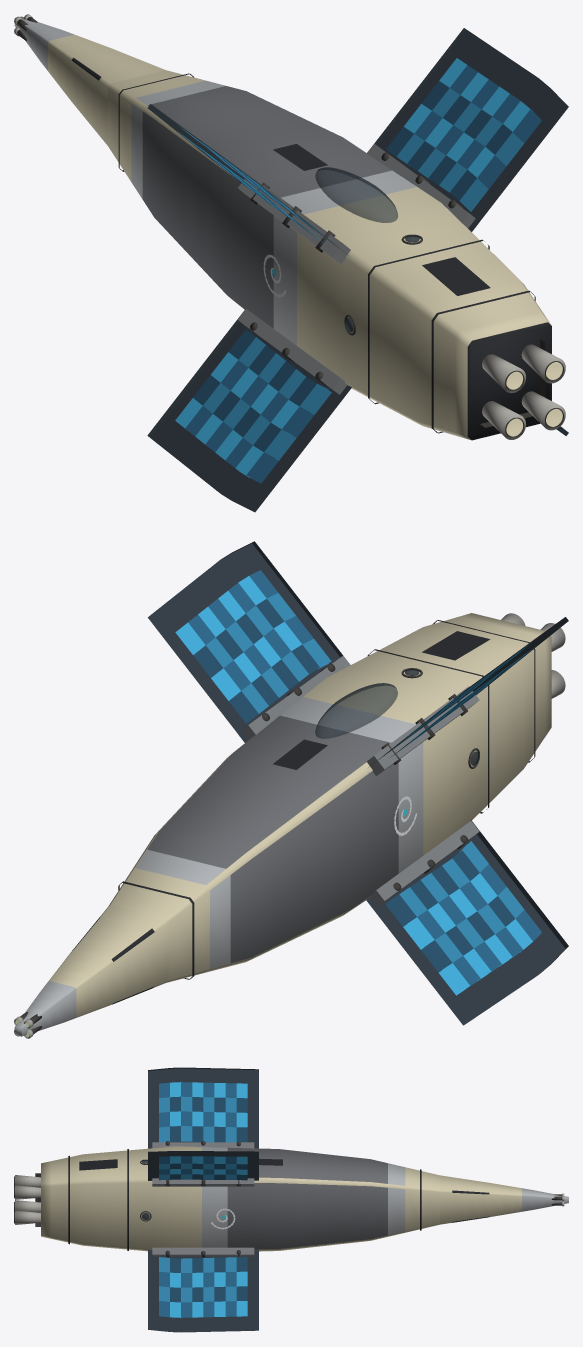
The model's file is Ship_Crosspanel_1.glb.
3 renders of one model, top to bottom at view 1: azimuth 30°, elevation 25°; view 2: azimuth 150°, elevation 25°; view 3: azimuth 270°, elevation 25°, orthographic. The views are drawn at different scales.
Visible parts, largest first — view 1: Fuselage_SquareBody, SolarPanelWing_LowerLeftRidge_RectangularPhotovoltaicGrid, SolarPanelWing_TopRightRidge_RectangularPhotovoltaicGrid, Nose_SquareTaperedForwardSection, Canopy_DorsalLowSquareBubble, SolarPanelWing_TopLeftRidge_RootHingeClamp, SolarPanelWing_LowerLeftRidge_RootHingeClamp, SolarPanelWing_TopLeftRidge_RectangularPhotovoltaicGrid, HullAccessPanel_TopAft, SolarPanelWing_TopRightRidge_RootHingeClamp, EngineEmitter, EngineBell_UpperRight_TaperedSquareClusterNozzle (+4 smaller); view 2: Fuselage_SquareBody, SolarPanelWing_LowerLeftRidge_RectangularPhotovoltaicGrid, SolarPanelWing_TopRightRidge_RectangularPhotovoltaicGrid, Nose_SquareTaperedForwardSection, Canopy_DorsalLowSquareBubble, SolarPanelWing_TopLeftRidge_RootHingeClamp, SolarPanelWing_LowerLeftRidge_RootHingeClamp, SolarPanelWing_TopLeftRidge_RectangularPhotovoltaicGrid, SolarPanelWing_TopRightRidge_RootHingeClamp, HullAccessPanel_TopAft, HullAccessPanel_TopForward; view 3: Fuselage_SquareBody, SolarPanelWing_LowerRightRidge_RectangularPhotovoltaicGrid, SolarPanelWing_TopLeftRidge_RectangularPhotovoltaicGrid, Nose_SquareTaperedForwardSection, SolarPanelWing_TopRightRidge_RectangularPhotovoltaicGrid, SolarPanelWing_LowerRightRidge_RootHingeClamp, SolarPanelWing_TopRightRidge_RootHingeClamp, SolarPanelWing_TopLeftRidge_RootHingeClamp, HullAccessPanel_TopAft.
Part boxes in pixels (x1,y1,x2,y2): Fuselage_SquareBody: (108,70,551,440); SolarPanelWing_LowerLeftRidge_RectangularPhotovoltaicGrid: (147,309,351,512); SolarPanelWing_TopRightRidge_RectangularPhotovoltaicGrid: (374,28,568,231); Nose_SquareTaperedForwardSection: (14,16,164,145); Canopy_DorsalLowSquareBubble: (315,167,397,222); SolarPanelWing_TopLeftRidge_RootHingeClamp: (238,174,350,264); SolarPanelWing_LowerLeftRidge_RootHingeClamp: (237,309,347,394); SolarPanelWing_TopLeftRidge_RectangularPhotovoltaicGrid: (147,104,348,255); HullAccessPanel_TopAft: (422,257,490,295); SolarPanelWing_TopRightRidge_RootHingeClamp: (366,143,475,230); EngineEmitter: (506,362,562,436); EngineBell_UpperRight_TaperedSquareClusterNozzle: (521,344,565,383); Fuselage_SquareBody: (108,613,551,982); SolarPanelWing_LowerLeftRidge_RectangularPhotovoltaicGrid: (366,820,568,1025); SolarPanelWing_TopRightRidge_RectangularPhotovoltaicGrid: (148,541,342,742); Nose_SquareTaperedForwardSection: (14,904,168,1036); Canopy_DorsalLowSquareBubble: (315,683,397,738); SolarPanelWing_TopLeftRidge_RootHingeClamp: (366,686,479,776); SolarPanelWing_LowerLeftRidge_RootHingeClamp: (370,821,479,906); SolarPanelWing_TopLeftRidge_RectangularPhotovoltaicGrid: (368,617,568,767); SolarPanelWing_TopRightRidge_RootHingeClamp: (239,655,350,742); HullAccessPanel_TopAft: (422,631,490,660); HullAccessPanel_TopForward: (273,739,327,769); Fuselage_SquareBody: (41,1146,439,1251); SolarPanelWing_LowerRightRidge_RectangularPhotovoltaicGrid: (148,1250,258,1332); SolarPanelWing_TopLeftRidge_RectangularPhotovoltaicGrid: (148,1067,258,1148); Nose_SquareTaperedForwardSection: (440,1175,568,1224); SolarPanelWing_TopRightRidge_RectangularPhotovoltaicGrid: (148,1151,258,1180); SolarPanelWing_LowerRightRidge_RootHingeClamp: (152,1247,254,1256); SolarPanelWing_TopRightRidge_RootHingeClamp: (152,1178,254,1186); SolarPanelWing_TopLeftRidge_RootHingeClamp: (152,1142,254,1148); HullAccessPanel_TopAft: (79,1159,117,1170).
Bounding box in the file's own units: 3.34 × 3.35 × 9.25.
